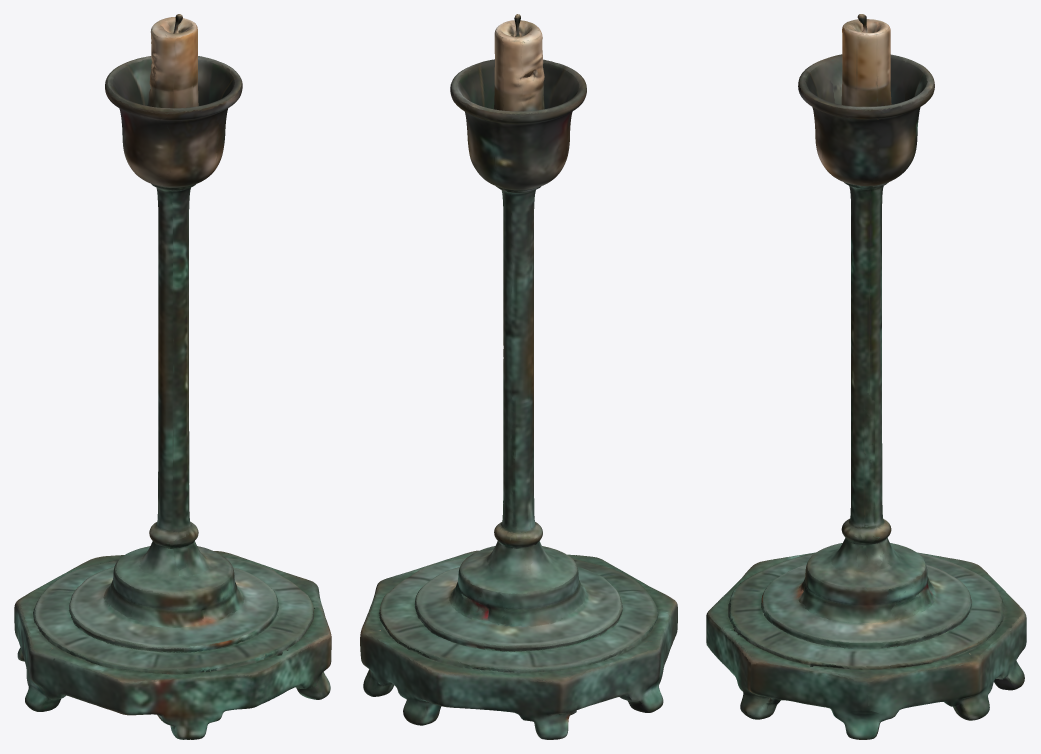
The model's file is S1-05_candlestand_A.glb.
The picture shows the model from 3 angles, left to right: view 1: azimuth 30°, elevation 25°; view 2: azimuth 150°, elevation 25°; view 3: azimuth 270°, elevation 25°; orthographic projection.
Parts seen in each view (by area): view 1: geometry_0; view 2: geometry_0; view 3: geometry_0.
Part boxes in pixels (bbox=[...]): geometry_0: bbox=[14, 14, 331, 739]; geometry_0: bbox=[360, 14, 677, 739]; geometry_0: bbox=[706, 14, 1026, 739].
Bounding box in the file's own units: 0.5429 × 1.2 × 0.5281.
1 material, 1 textured.
